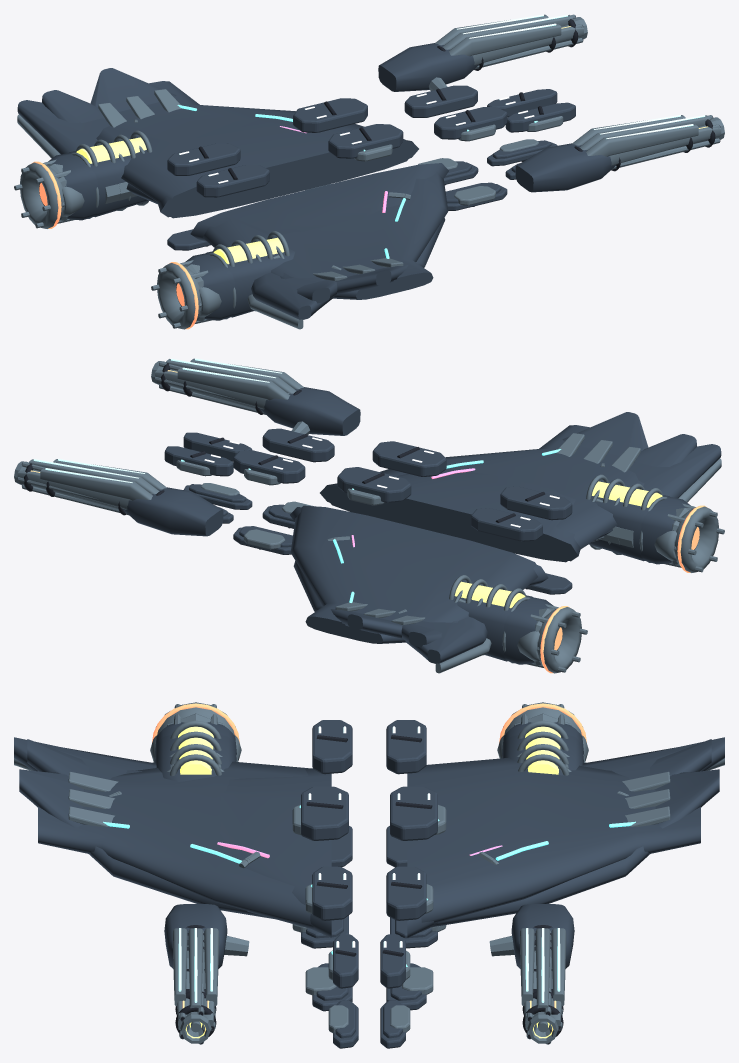
File: harrier.glb
The picture shows the model from 3 angles, top to bottom: view 1: azimuth 30°, elevation 25°; view 2: azimuth 150°, elevation 25°; view 3: azimuth 270°, elevation 25°; orthographic projection. The views are drawn at different scales.
Parts seen in each view (by area): view 1: w_vane Fitting gunmetal, p_heavy Fitting gunmetal, w_razor Fitting gunmetal, w_phantom Fitting gunmetal, m_heavy Fitting gunmetal, m_array Brushed fitting edges, e_nova Brushed fitting edges, w_prism Fitting gunmetal, e_nova Fitting gunmetal, e_twin Fitting gunmetal, p_light Brushed fitting edges, m_siege Brushed fitting edges (+13 smaller); view 2: w_vane Fitting gunmetal, p_heavy Fitting gunmetal, w_razor Fitting gunmetal, w_phantom Fitting gunmetal, m_heavy Fitting gunmetal, m_array Brushed fitting edges, e_nova Brushed fitting edges, w_prism Fitting gunmetal, e_nova Fitting gunmetal, e_twin Fitting gunmetal, p_light Brushed fitting edges, e_fusion Brushed fitting edges (+13 smaller); view 3: w_vane Fitting gunmetal, p_heavy Fitting gunmetal, w_razor Fitting gunmetal, w_prism Fitting gunmetal, m_array Brushed fitting edges, m_heavy Fitting gunmetal, w_vane Brushed fitting edges, p_light Brushed fitting edges, e_fusion Brushed fitting edges, w_phantom Fitting gunmetal, e_twin Fitting gunmetal, m_heavy Brushed fitting edges (+12 smaller).
Part boxes in pixels (x1,y1,x2,y2): w_vane Fitting gunmetal: (96, 81, 448, 299); p_heavy Fitting gunmetal: (167, 85, 575, 250); w_razor Fitting gunmetal: (42, 90, 448, 303); w_phantom Fitting gunmetal: (17, 100, 411, 319); m_heavy Fitting gunmetal: (378, 43, 616, 192); m_array Brushed fitting edges: (435, 14, 710, 156); e_nova Brushed fitting edges: (14, 159, 212, 329); w_prism Fitting gunmetal: (90, 68, 445, 294); e_nova Fitting gunmetal: (39, 153, 235, 320); e_twin Fitting gunmetal: (68, 151, 294, 317); p_light Brushed fitting edges: (305, 116, 563, 205); m_siege Brushed fitting edges: (472, 26, 721, 165); w_vane Fitting gunmetal: (290, 425, 638, 643); p_heavy Fitting gunmetal: (164, 428, 572, 594); w_razor Fitting gunmetal: (290, 434, 696, 647); w_phantom Fitting gunmetal: (325, 444, 721, 663); m_heavy Fitting gunmetal: (122, 387, 360, 536); m_array Brushed fitting edges: (28, 358, 303, 500); e_nova Brushed fitting edges: (526, 503, 724, 673); w_prism Fitting gunmetal: (293, 412, 648, 638); e_nova Fitting gunmetal: (504, 497, 699, 664); e_twin Fitting gunmetal: (453, 495, 670, 661); p_light Brushed fitting edges: (176, 460, 384, 549); e_fusion Brushed fitting edges: (449, 474, 691, 665); w_vane Fitting gunmetal: (38, 757, 700, 929); p_heavy Fitting gunmetal: (301, 720, 437, 1048); w_razor Fitting gunmetal: (27, 739, 711, 937); w_prism Fitting gunmetal: (19, 769, 719, 927); m_array Brushed fitting edges: (172, 928, 566, 1011); m_heavy Fitting gunmetal: (164, 904, 574, 968); w_vane Brushed fitting edges: (68, 771, 670, 827); p_light Brushed fitting edges: (292, 804, 446, 1032); e_fusion Brushed fitting edges: (167, 713, 571, 776); w_phantom Fitting gunmetal: (14, 737, 724, 934); e_twin Fitting gunmetal: (155, 734, 583, 781); m_heavy Brushed fitting edges: (180, 935, 558, 1043).
Size of the model in its own units: 51.2 by 8.93 by 45.06.
